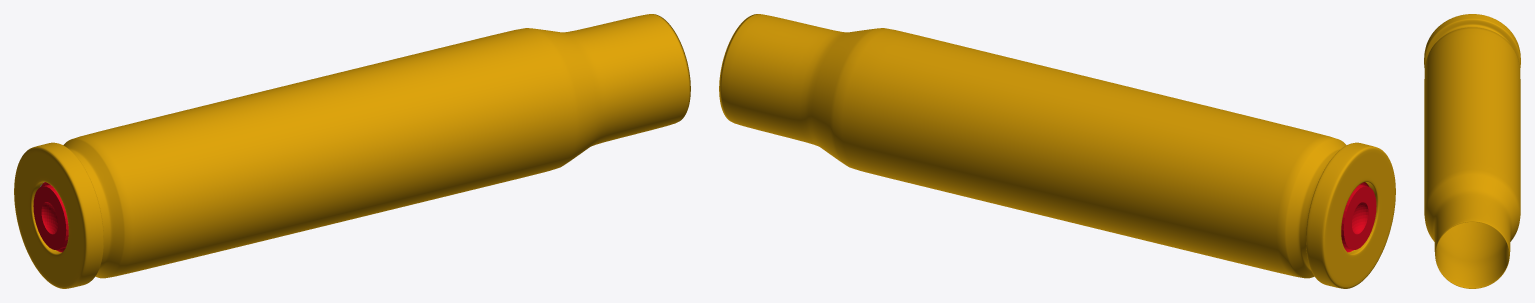
The model's file is Tank Bullet Shell.fbx.
3 renders of one model, left to right at view 1: azimuth 30°, elevation 25°; view 2: azimuth 150°, elevation 25°; view 3: azimuth 270°, elevation 25°, orthographic. The views are drawn at different scales.
Parts seen in each view (by area): view 1: Cylinder.002; view 2: Cylinder.002; view 3: Cylinder.002.
Boxes of the visible parts, <box> form: Cylinder.002: <box>14,14,690,288</box>; Cylinder.002: <box>719,14,1395,288</box>; Cylinder.002: <box>1424,14,1520,288</box>.
Bounding box in the file's own units: 616 × 127 × 127.
